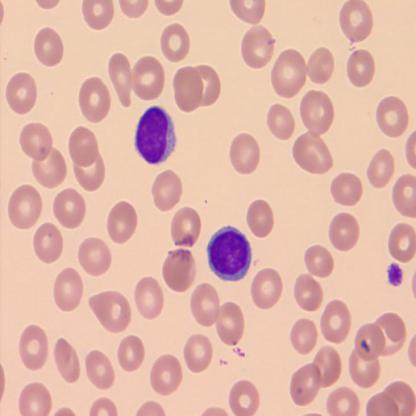Lymphocyte: (206, 225, 252, 282), (133, 105, 176, 165)
